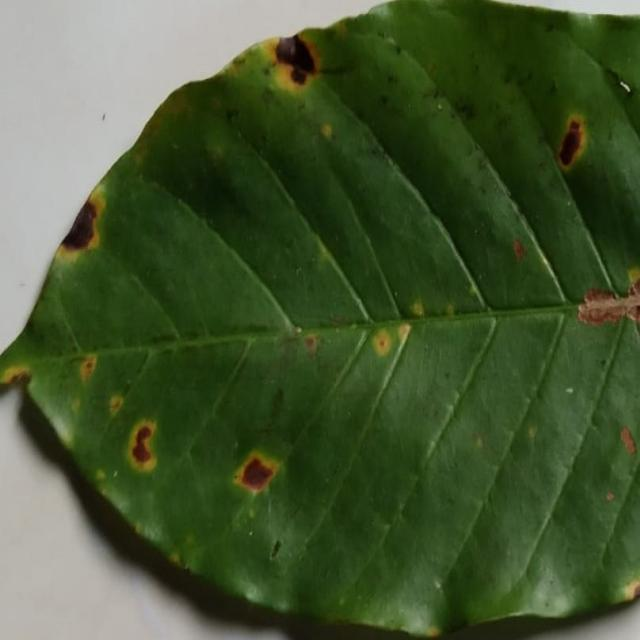Enfermedad-Mancha-de-hierro: (0, 0, 640, 640)
